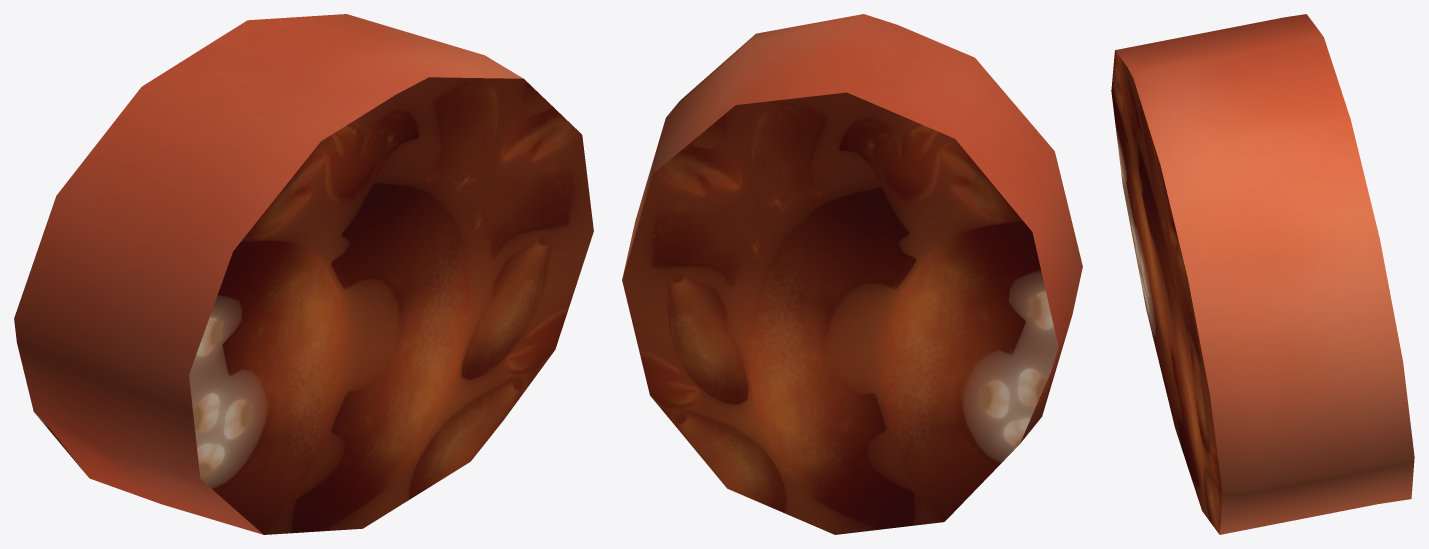
Rendered from Sausage02.fbx.
3 renders of one model, left to right at view 1: azimuth 30°, elevation 25°; view 2: azimuth 150°, elevation 25°; view 3: azimuth 270°, elevation 25°, orthographic. The views are drawn at different scales.
Visible parts, largest first — view 1: Sausage02; view 2: Sausage02; view 3: Sausage02.
Part boxes in pixels (x1=…): Sausage02: x1=14, y1=14, x2=593, y2=534; Sausage02: x1=622, y1=14, x2=1082, y2=534; Sausage02: x1=1111, y1=14, x2=1414, y2=534.
Size of the model in its own units: 0.1389 by 0.1201 by 0.0733.
